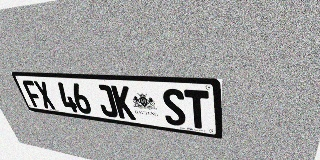4: (55, 82, 79, 113)
6: (68, 83, 93, 114)
F: (21, 80, 45, 108)
J: (94, 84, 119, 118)
K: (111, 85, 136, 120)
S: (161, 88, 187, 127)
T: (184, 89, 210, 130)
X: (33, 81, 56, 110)
